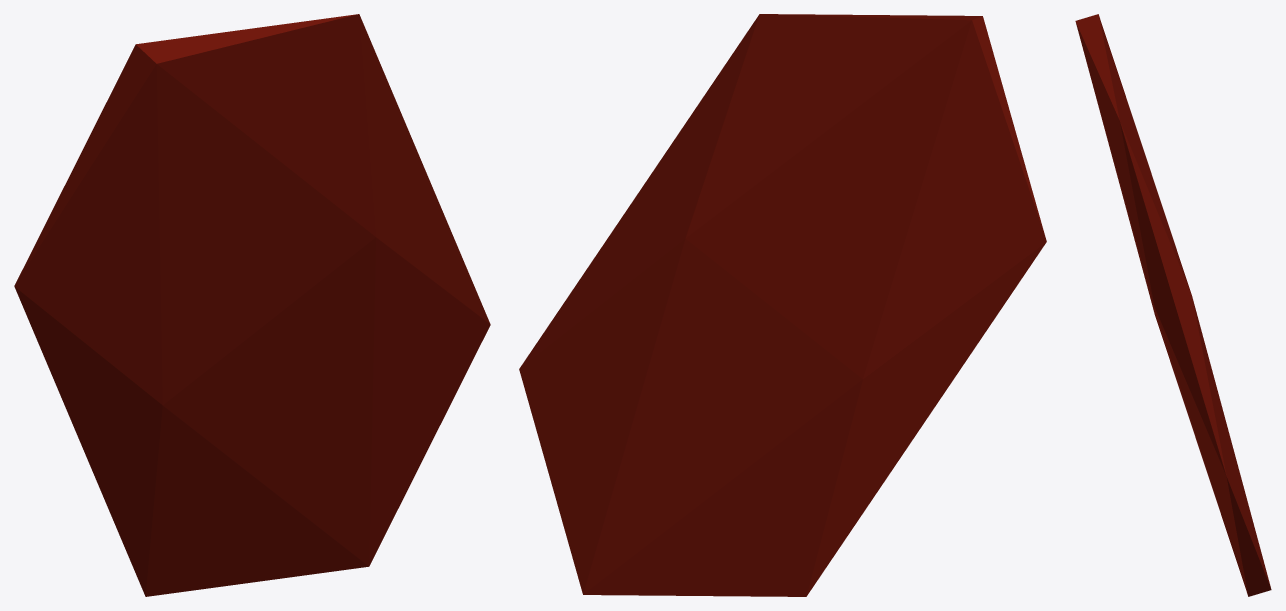
Rendered from Platonic.gltf.
The picture shows the model from 3 angles, left to right: view 1: azimuth 30°, elevation 25°; view 2: azimuth 150°, elevation 25°; view 3: azimuth 270°, elevation 25°; orthographic projection. The views are drawn at different scales.
Parts seen in each view (by area): view 1: Platonic; view 2: Platonic; view 3: Platonic.
Part boxes in pixels (x1,y1,x2,y2): Platonic: [14, 14, 490, 596]; Platonic: [519, 14, 1046, 596]; Platonic: [1075, 14, 1271, 596].
Bounding box in the file's own units: 29.5 × 34.92 × 13.25.
